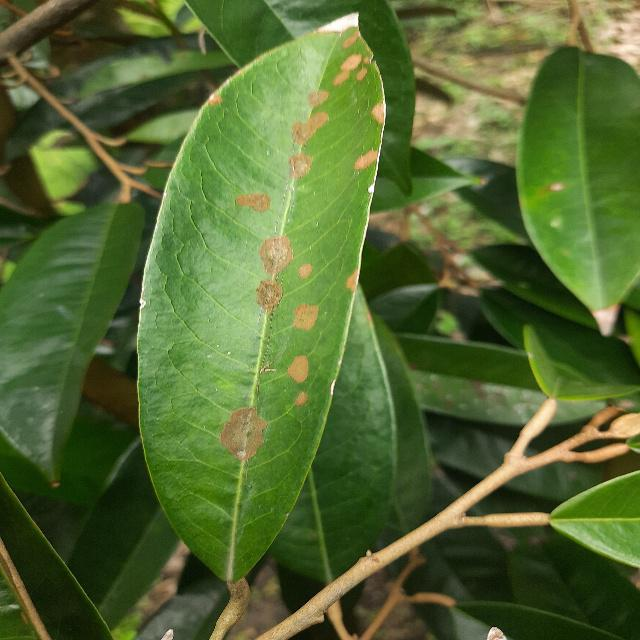Algal Leaf Spot: (130, 9, 391, 579)
